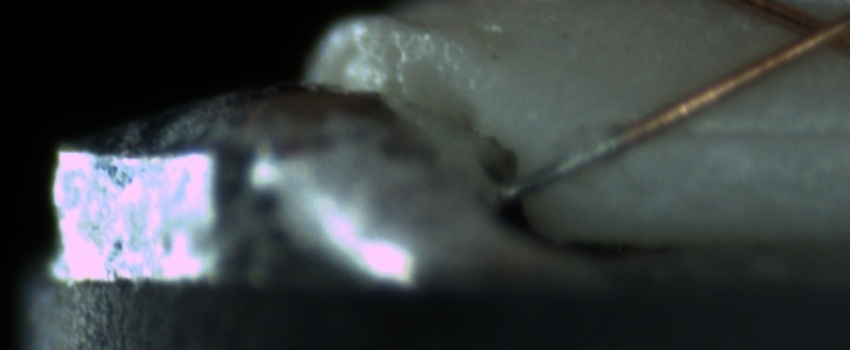CL: (770, 1, 849, 63)
DL: (667, 97, 850, 163)
TS: (494, 130, 623, 199)
